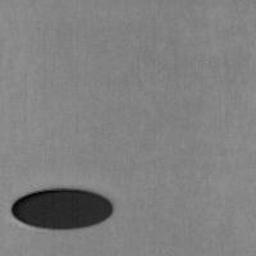Punching: (12, 189, 113, 229)
